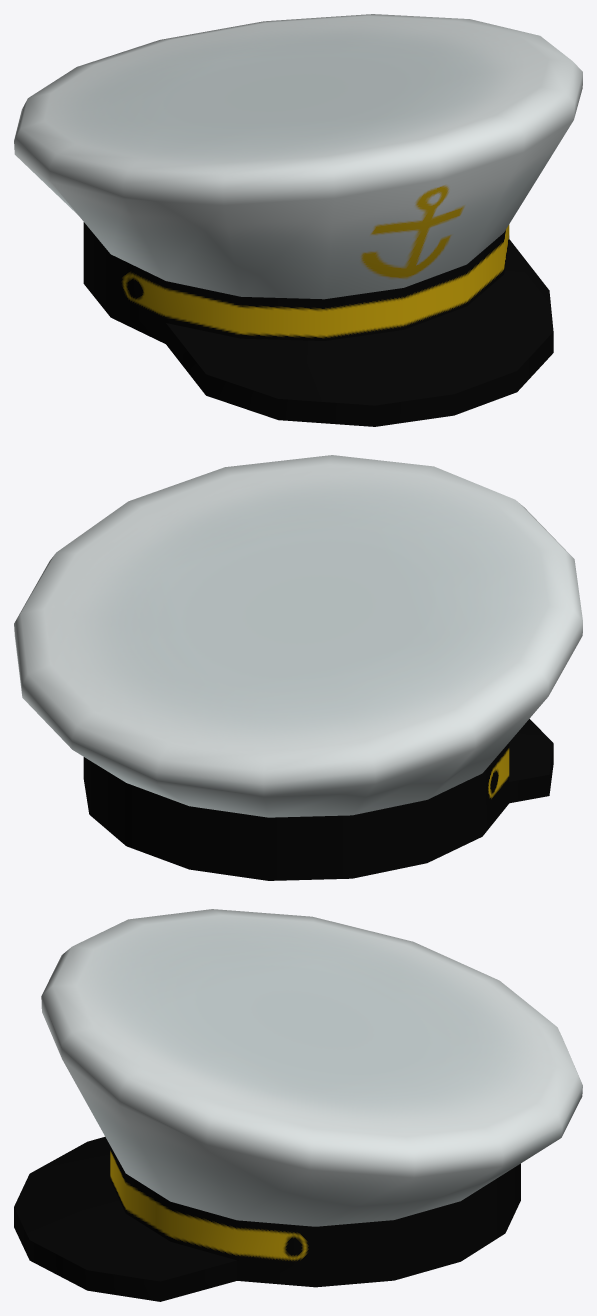
The model's file is Captain.glb.
The picture shows the model from 3 angles, top to bottom: view 1: azimuth 30°, elevation 25°; view 2: azimuth 150°, elevation 25°; view 3: azimuth 270°, elevation 25°; orthographic projection. The views are drawn at different scales.
Visible parts, largest first — view 1: m_CaptainsHat01; view 2: m_CaptainsHat01; view 3: m_CaptainsHat01.
Part boxes in pixels (box(x1,y1,x2,y2)): m_CaptainsHat01: box(14, 14, 582, 426); m_CaptainsHat01: box(14, 455, 582, 880); m_CaptainsHat01: box(14, 909, 582, 1301).
Size of the model in its own units: 0.7849 by 0.38 by 0.8106.
Materials: 1 (1 with a texture image).
